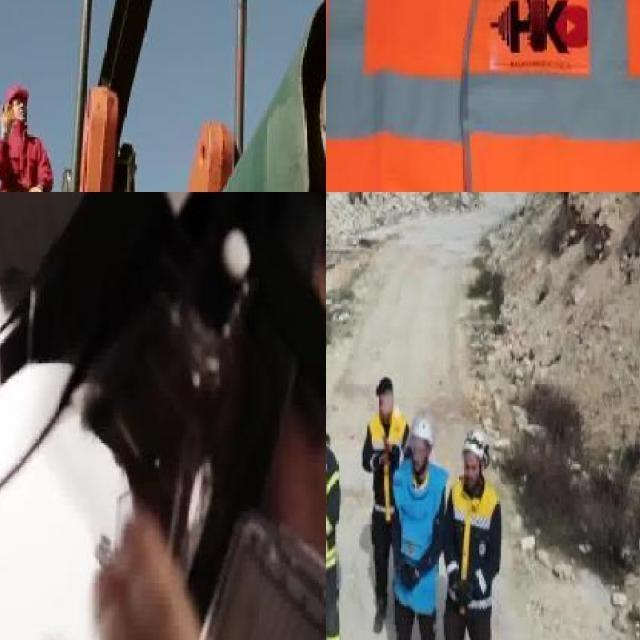apron: (0, 104, 14, 132), (25, 184, 44, 192)
